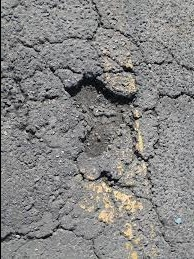pothole: (66, 77, 138, 117), (78, 126, 119, 157)
